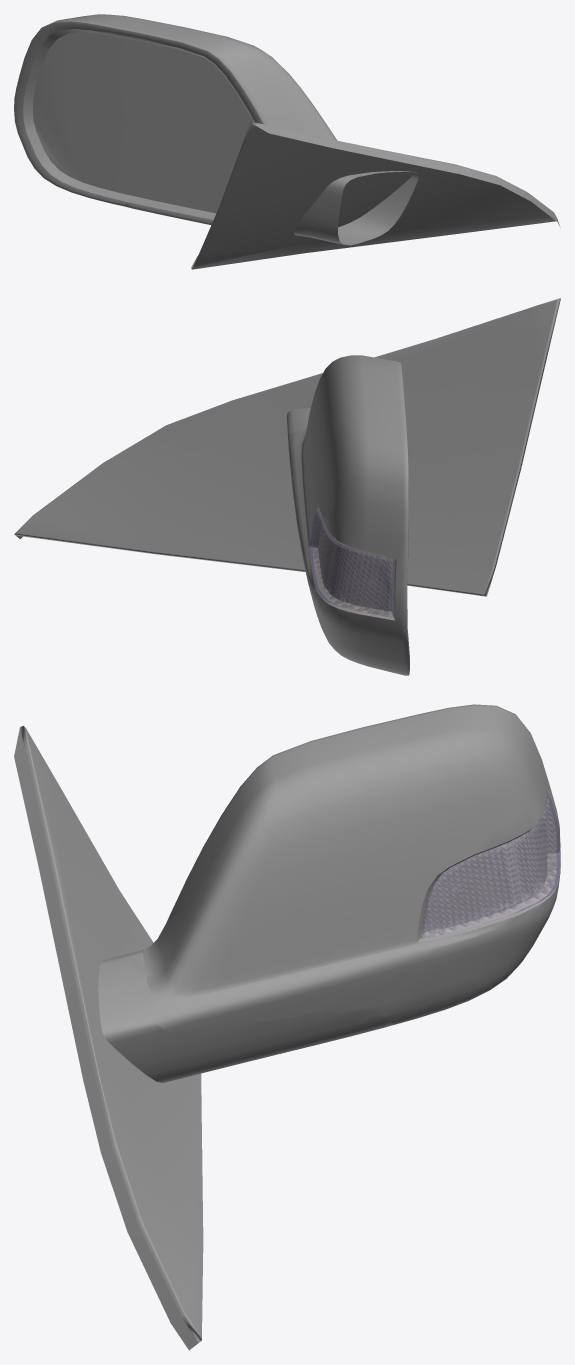
3 views of the same model, one above another, from view 1: azimuth 30°, elevation 25°; view 2: azimuth 150°, elevation 25°; view 3: azimuth 270°, elevation 25° (orthographic). The views are drawn at different scales.
Parts seen in each view (by area): view 1: X8163_261I_L_X8163_261I_L_5_DaS, X8163_261I_L_X8163_261I_L_4_DTaSI; view 2: X8163_261I_L_X8163_261I_L_5_DaS, X8163_261I_L_X8163_261I_L_3_DTaSI, X8163_261I_L_1_N_X8163_261I_L, X8163_261I_L_X8163_261I_L_5_DaS_E; view 3: X8163_261I_L_X8163_261I_L_5_DaS, X8163_261I_L_X8163_261I_L_3_DTaSI, X8163_261I_L_1_N_X8163_261I_L, X8163_261I_L_X8163_261I_L_5_DaS_E.
Boxes of the visible parts, bbox=[...] form: X8163_261I_L_X8163_261I_L_5_DaS: bbox=[14, 14, 560, 269]; X8163_261I_L_X8163_261I_L_4_DTaSI: bbox=[33, 32, 252, 213]; X8163_261I_L_X8163_261I_L_5_DaS: bbox=[14, 298, 560, 675]; X8163_261I_L_X8163_261I_L_3_DTaSI: bbox=[308, 510, 394, 617]; X8163_261I_L_1_N_X8163_261I_L: bbox=[312, 511, 395, 617]; X8163_261I_L_X8163_261I_L_5_DaS_E: bbox=[309, 507, 396, 620]; X8163_261I_L_X8163_261I_L_5_DaS: bbox=[14, 704, 559, 1350]; X8163_261I_L_X8163_261I_L_3_DTaSI: bbox=[420, 793, 560, 938]; X8163_261I_L_1_N_X8163_261I_L: bbox=[419, 797, 556, 939]; X8163_261I_L_X8163_261I_L_5_DaS_E: bbox=[416, 787, 559, 943].
Bounding box in the file's own units: 39.32 × 21.26 × 29.12.
